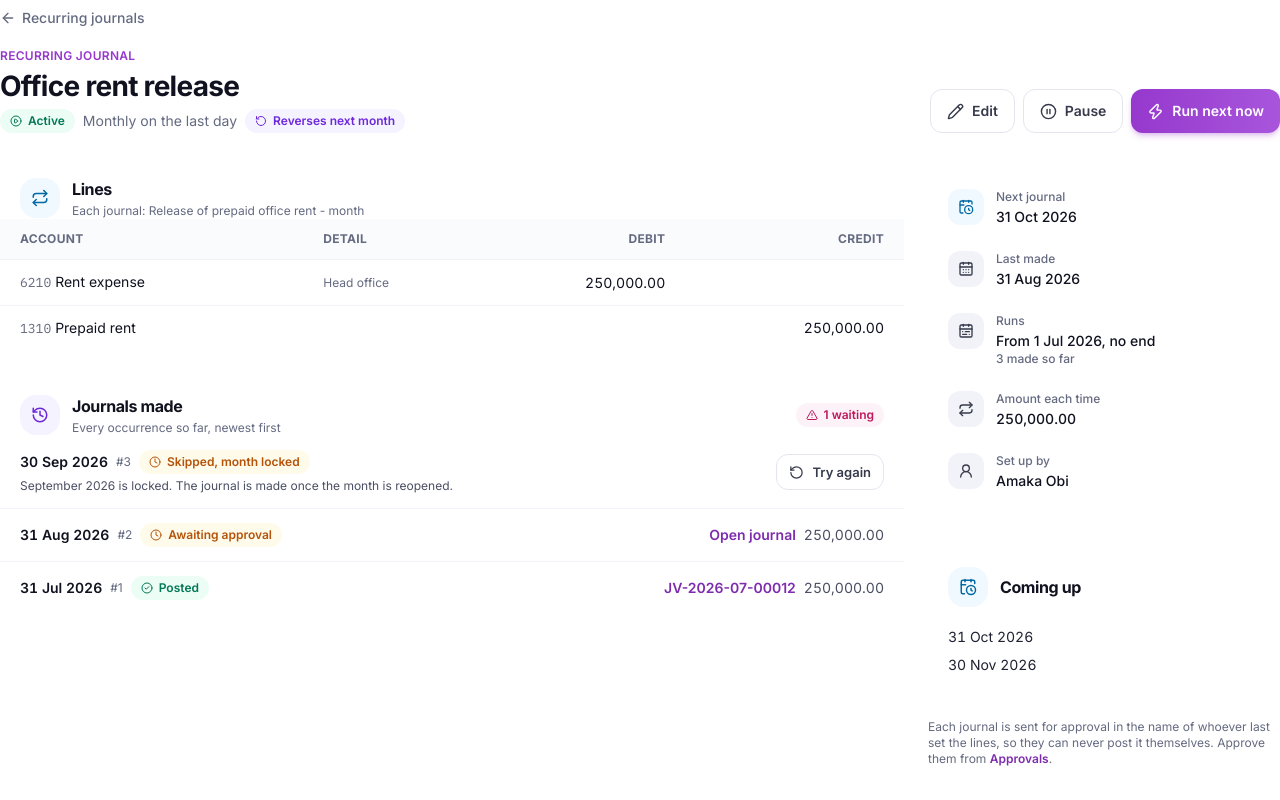
it: RecurringJournalDetail › pauses, and makes the next journal early only once confirmed
The width and height of the screenshot is (1280, 800).
Step 1. Click the button "Run next now" → (1206, 111), box [1131,89,1279,133]
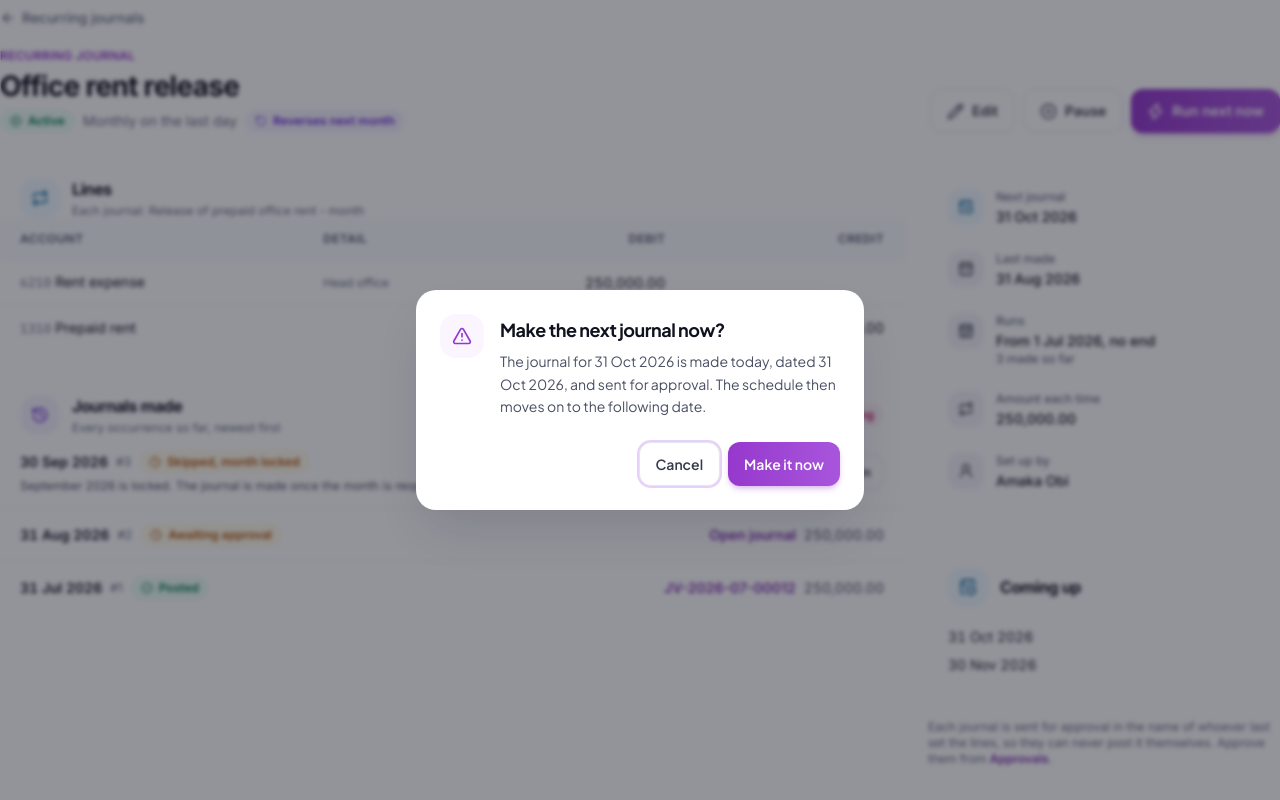
Expected: the dialog shows "The journal for 31 Oct 2026 is made today", [500,352,836,415]
Step 2. Click the button "Make it now" → (784, 464), box [728,442,840,486]
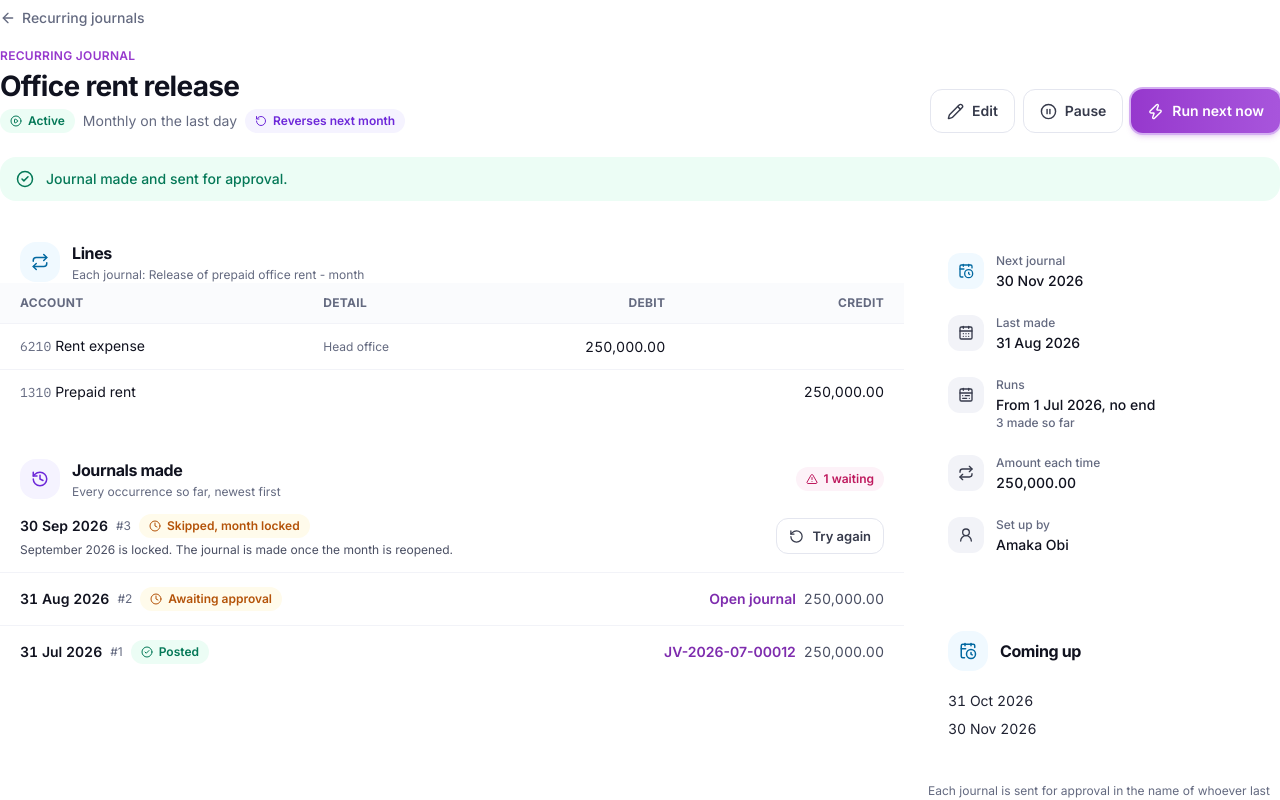
Step 3. Click the button "Pause" → (1073, 111), box [1023,89,1123,133]
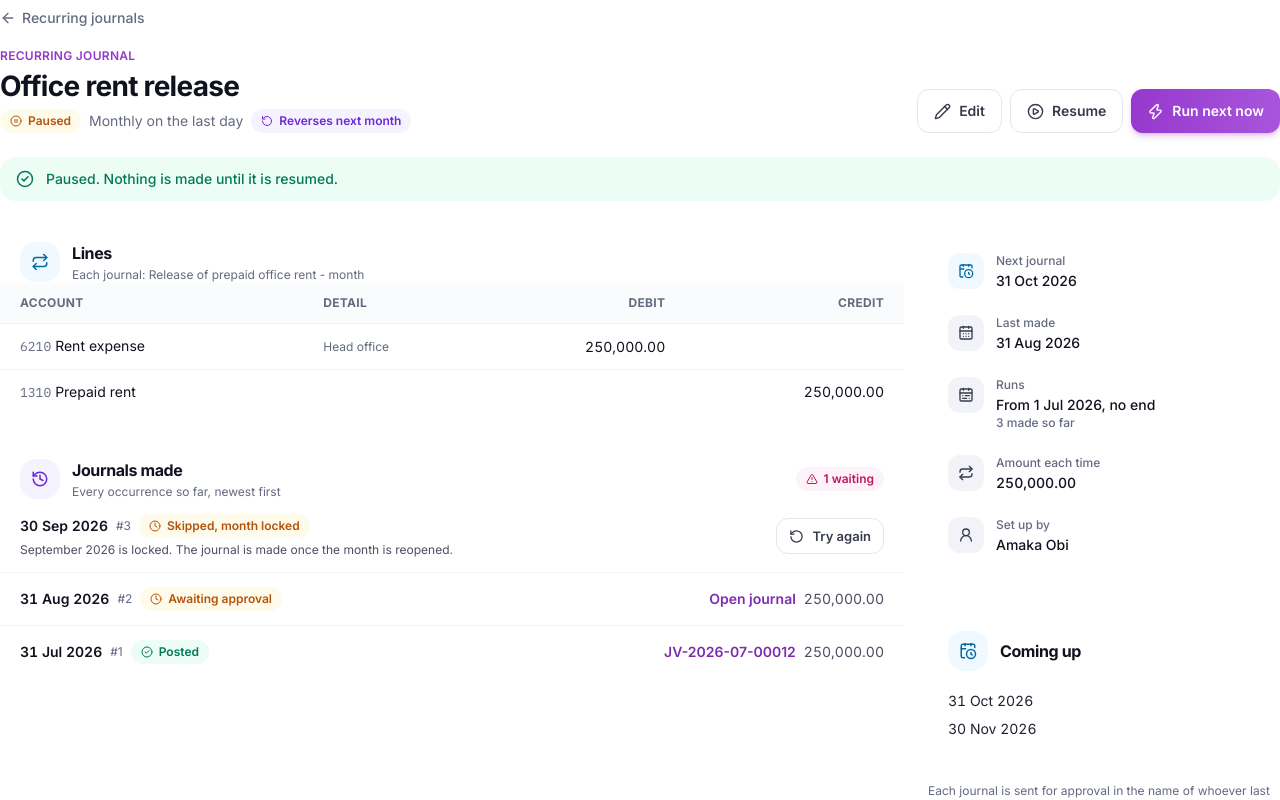
Expected: the button "Resume" is shown, [1010,89,1123,133]
